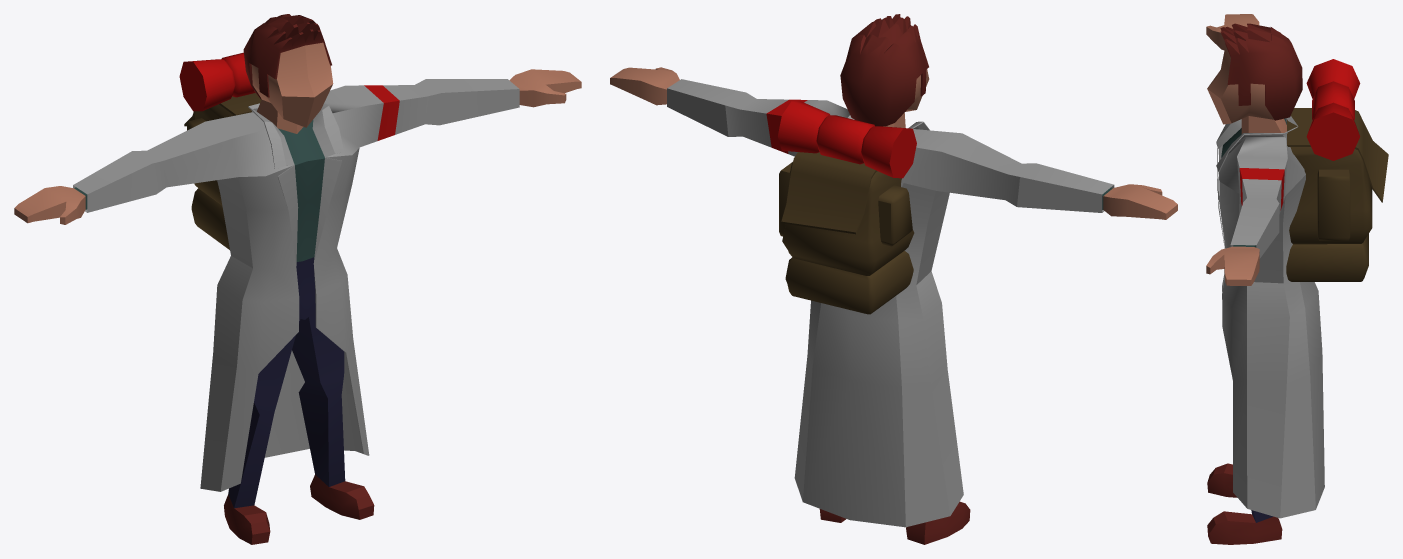
File: SM_Medic.FBX
The picture shows the model from 3 angles, left to right: view 1: azimuth 30°, elevation 25°; view 2: azimuth 150°, elevation 25°; view 3: azimuth 270°, elevation 25°; orthographic projection. The views are drawn at different scales.
Parts seen in each view (by area): view 1: SM_Medic; view 2: SM_Medic; view 3: SM_Medic.
Boxes of the visible parts, x1=… form: SM_Medic: x1=14, y1=14, x2=581, y2=544; SM_Medic: x1=610, y1=14, x2=1177, y2=544; SM_Medic: x1=1206, y1=14, x2=1388, y2=544.
Size of the model in its own units: 369 by 316 by 107.
